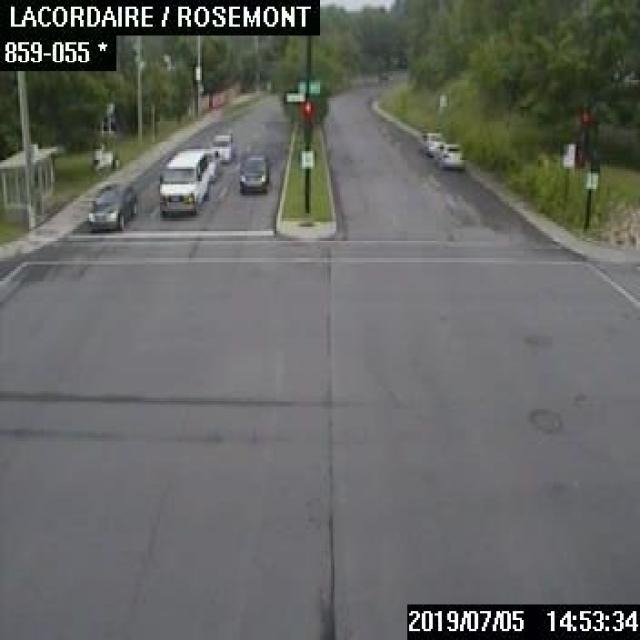vehicle: (157, 153, 207, 213), (86, 180, 136, 230), (238, 151, 268, 192), (432, 143, 463, 167), (198, 147, 220, 178), (211, 132, 232, 161), (418, 130, 441, 155)
